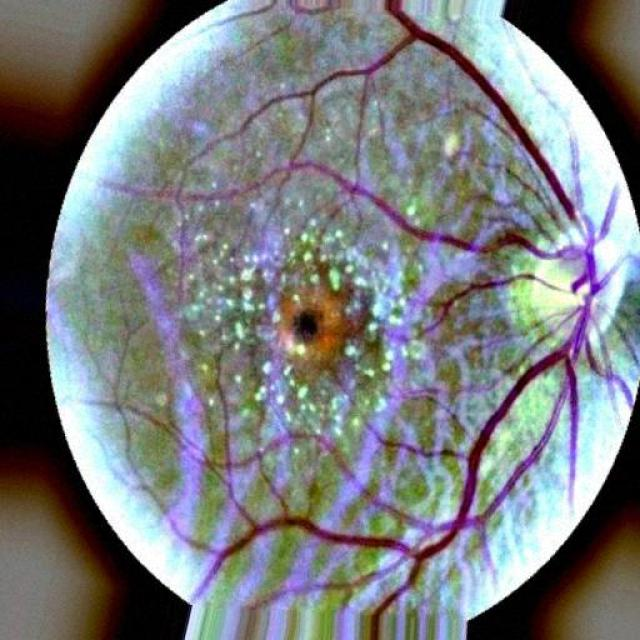Macula: (292, 308, 321, 342)
Nerves: (105, 0, 628, 639)
Optic Disk: (516, 190, 627, 357)
